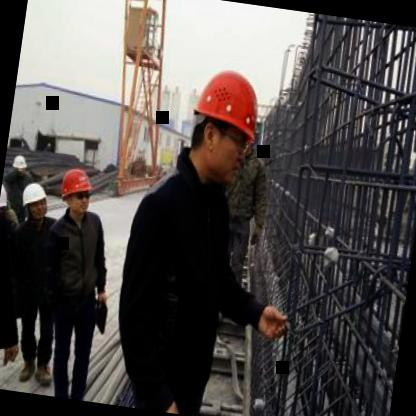helmet: (179, 64, 264, 192), (56, 165, 96, 220), (17, 179, 50, 227), (7, 152, 28, 180)
